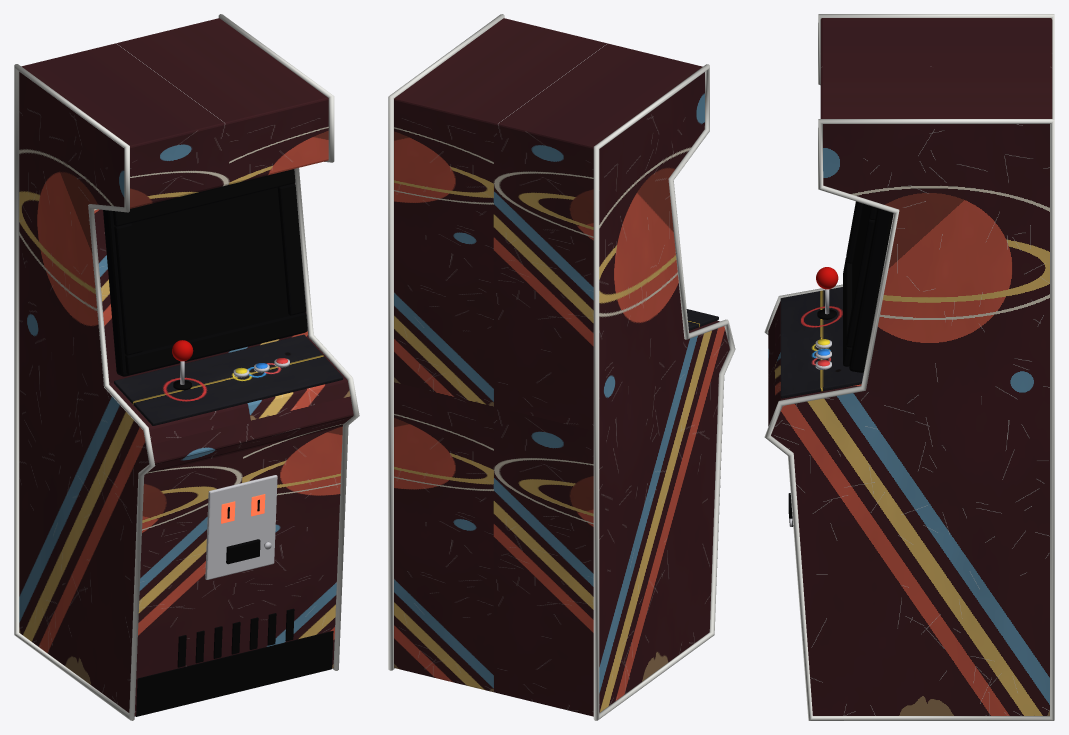
Rendered from arcade-cabinet-orbit.glb.
3 views of the same model, side by side, from view 1: azimuth 30°, elevation 25°; view 2: azimuth 150°, elevation 25°; view 3: azimuth 270°, elevation 25° (orthographic). The views are drawn at different scales.
Visible parts, largest first — view 1: Shell, Würfel.004, Würfel.005, TMoulding, Würfel.012, Würfel.006, TMoulding.001, Würfel.001, Würfel, Würfel.002, Würfel.003, Würfel.011; view 2: Shell, TMoulding, TMoulding.001; view 3: Shell, TMoulding.001, Würfel.005, Würfel.004, TMoulding, Würfel.003, Würfel.001, Würfel.002.
Part boxes in pixels (left/top/right/bottom): Shell: left=19, top=18, right=353, bottom=716; Würfel.004: left=103, top=187, right=305, bottom=376; Würfel.005: left=114, top=334, right=343, bottom=425; TMoulding: left=14, top=64, right=155, bottom=720; Würfel.012: left=135, top=631, right=333, bottom=716; Würfel.006: left=205, top=475, right=277, bottom=579; TMoulding.001: left=218, top=14, right=359, bottom=670; Würfel.001: left=125, top=312, right=307, bottom=374; Würfel: left=113, top=169, right=295, bottom=226; Würfel.002: left=114, top=223, right=142, bottom=355; Würfel.003: left=277, top=183, right=305, bottom=315; Würfel.011: left=226, top=539, right=260, bottom=564; Shell: left=394, top=18, right=729, bottom=716; TMoulding: left=593, top=64, right=735, bottom=720; TMoulding.001: left=388, top=14, right=504, bottom=670; Shell: left=768, top=18, right=1052, bottom=715; TMoulding.001: left=764, top=119, right=1054, bottom=720; Würfel.005: left=780, top=287, right=863, bottom=398; Würfel.004: left=849, top=203, right=893, bottom=372; TMoulding: left=764, top=14, right=1054, bottom=334; Würfel.003: left=846, top=214, right=874, bottom=347; Würfel.001: left=843, top=257, right=852, bottom=366; Würfel.002: left=846, top=201, right=863, bottom=263.
Size of the model in its own units: 0.77 by 2 by 0.8767.
10 materials, 2 textured.
